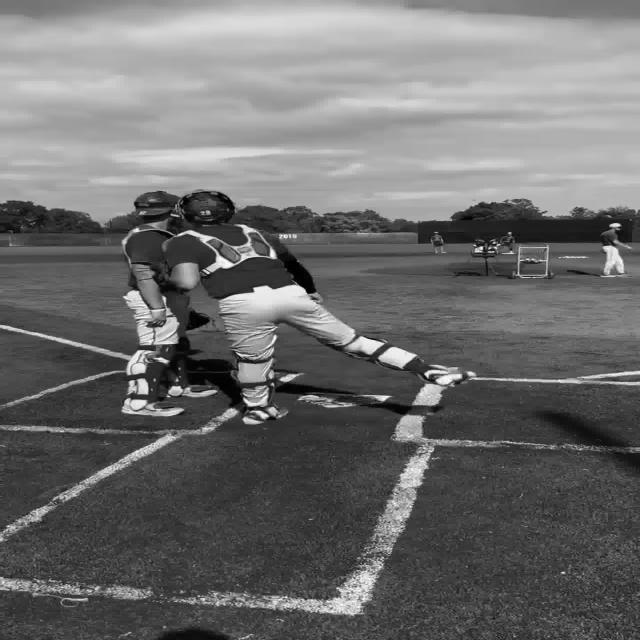shoe: (422, 365, 476, 386), (242, 402, 289, 425), (122, 399, 184, 416), (164, 385, 218, 398)
